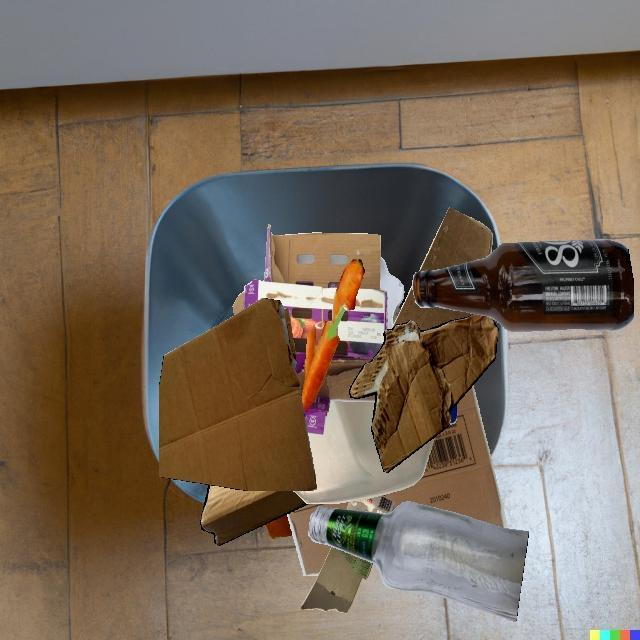biowaste: (301, 259, 364, 411), (265, 514, 293, 538)
cardboard: (233, 224, 388, 436), (159, 298, 317, 491), (349, 314, 498, 472), (383, 385, 508, 529), (200, 485, 308, 546), (301, 546, 373, 614), (419, 207, 493, 272), (287, 502, 349, 576), (391, 285, 474, 330), (380, 256, 404, 330)
glass: (308, 501, 529, 622), (412, 239, 634, 332)
plastic: (293, 401, 435, 504)
